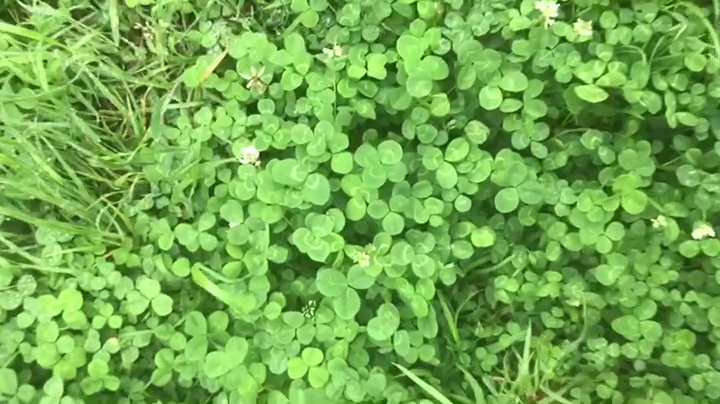4-clover: (354, 140, 407, 192)
